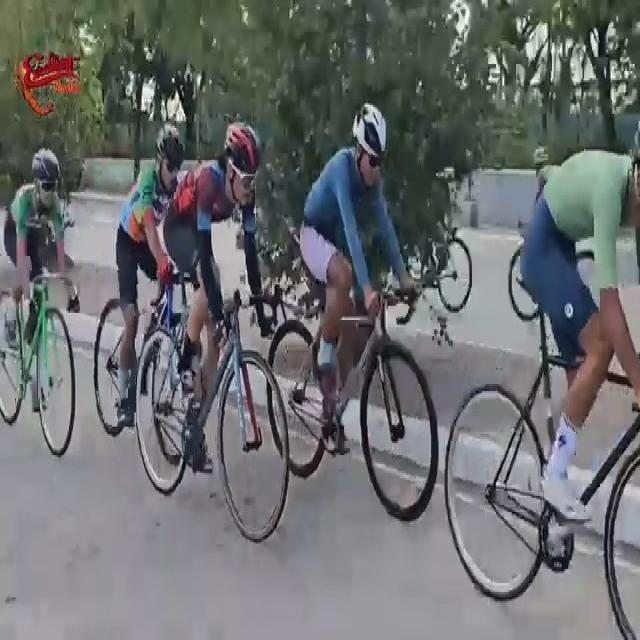bike: (441, 150, 640, 638), (268, 94, 442, 522), (132, 113, 292, 544), (90, 119, 186, 462), (2, 141, 78, 460), (508, 148, 602, 324), (391, 194, 475, 318)
